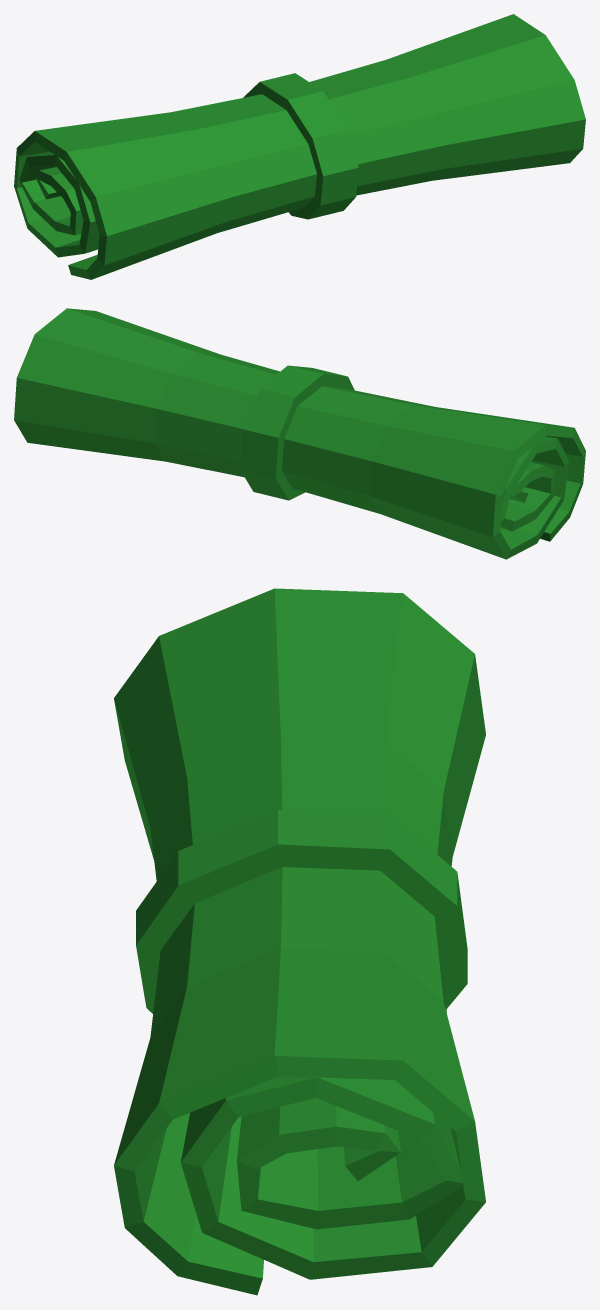
Rendered from Scroll.003.fbx.
The picture shows the model from 3 angles, top to bottom: view 1: azimuth 30°, elevation 25°; view 2: azimuth 150°, elevation 25°; view 3: azimuth 270°, elevation 25°; orthographic projection. The views are drawn at different scales.
Parts seen in each view (by area): view 1: Scroll.003; view 2: Scroll.003; view 3: Scroll.003.
Boxes of the visible parts, x1=… form: Scroll.003: x1=14, y1=14, x2=585, y2=279; Scroll.003: x1=14, y1=308, x2=585, y2=559; Scroll.003: x1=114, y1=588, x2=485, y2=1295.
Size of the model in its own units: 48.48 by 11.48 by 16.16.
